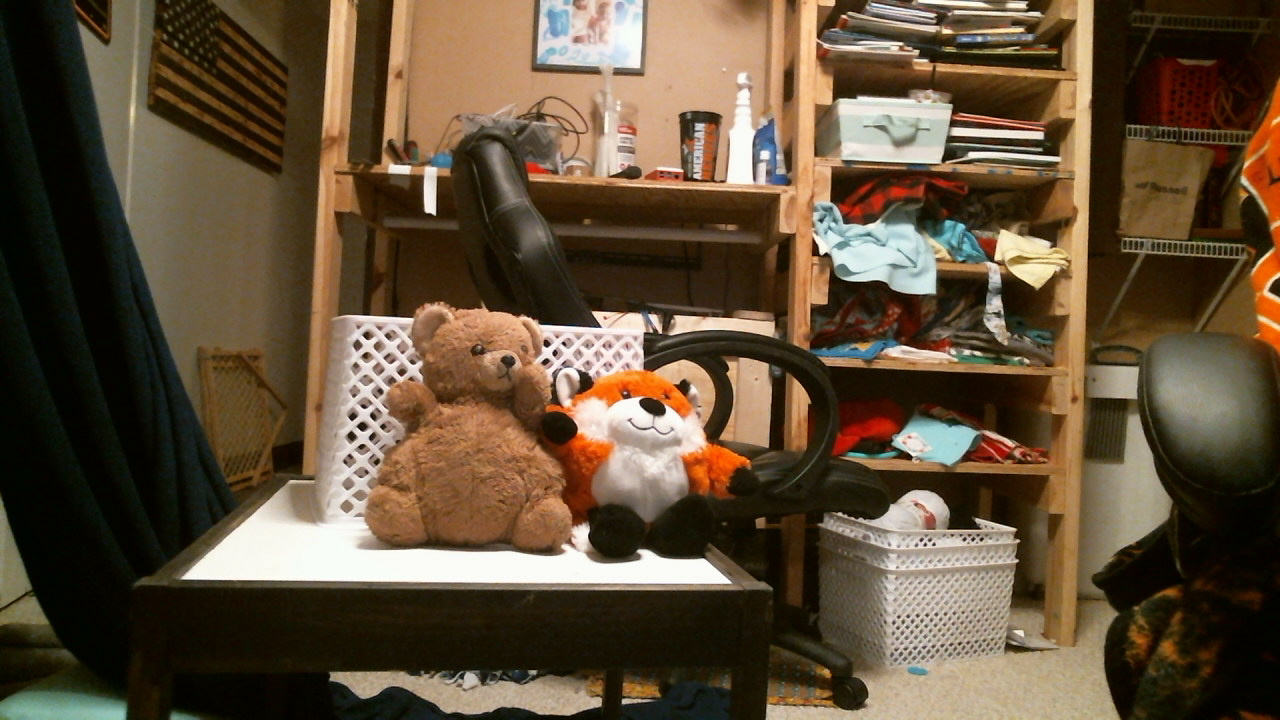Little_Mister_Bear: (469, 341, 541, 392)
